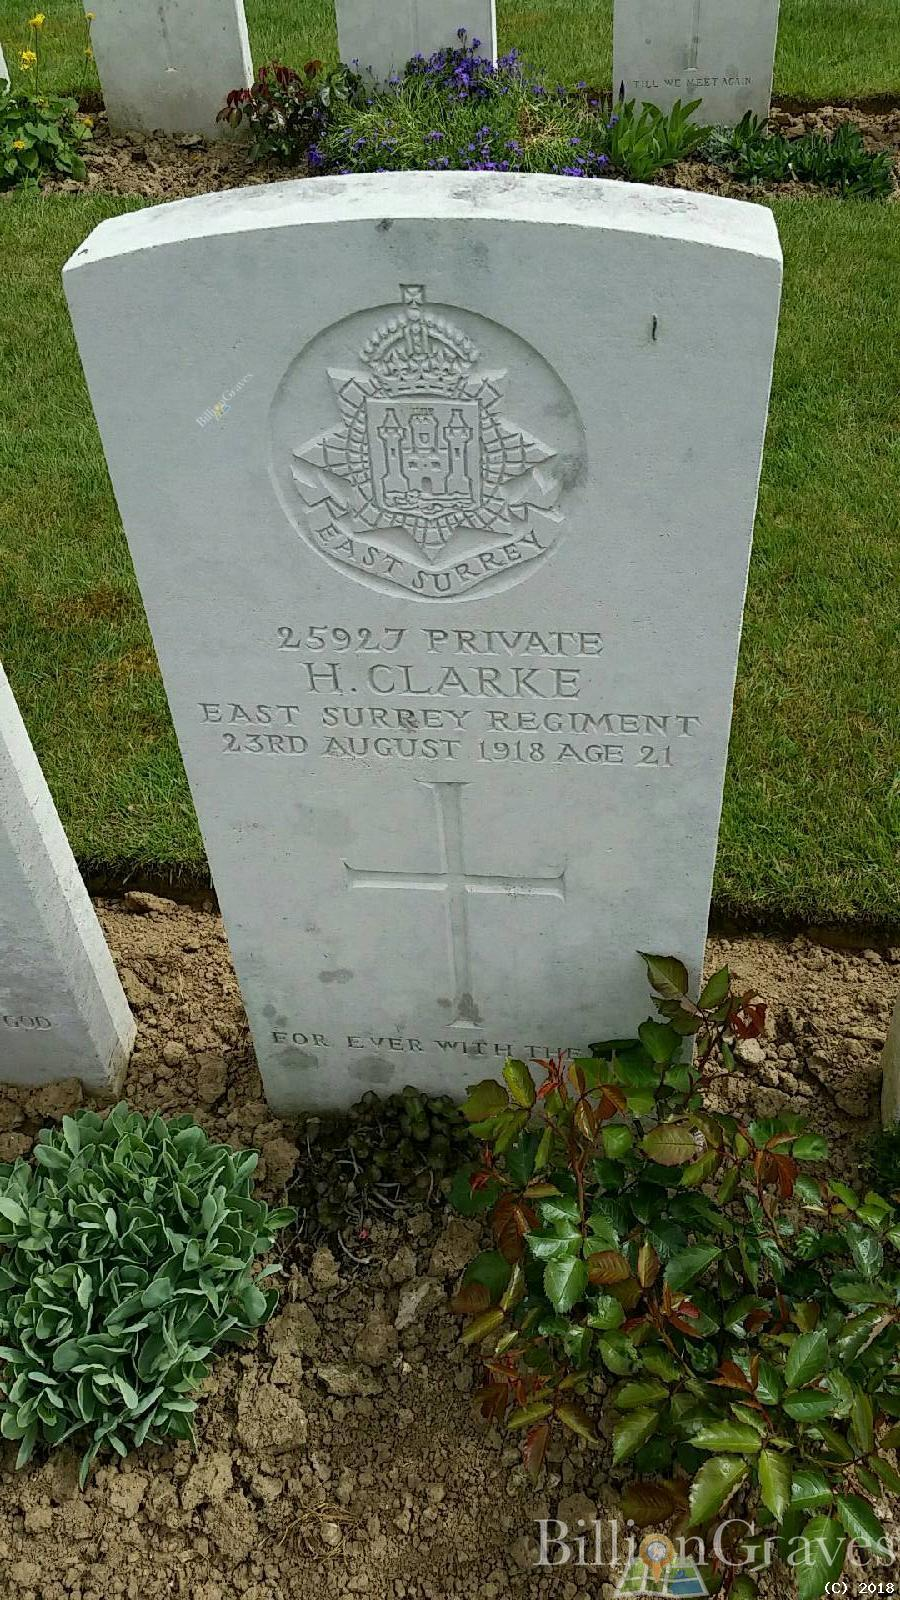military: (30, 113, 821, 1190)
